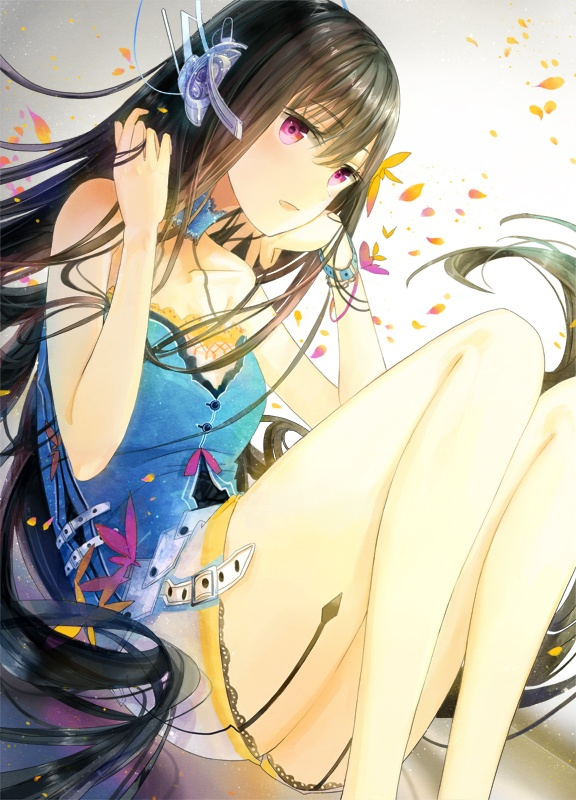纸片人正脸: (184, 5, 398, 246)
